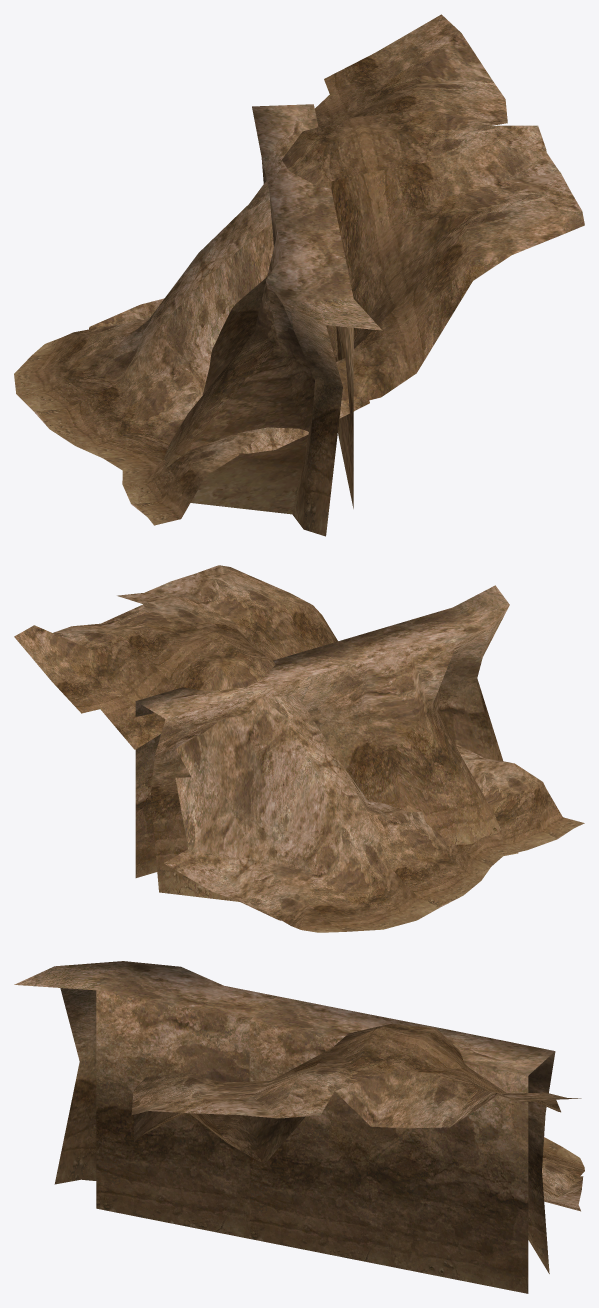
Rendered from dcfx_qm_03.FBX.
3 views of the same model, one above another, from view 1: azimuth 30°, elevation 25°; view 2: azimuth 150°, elevation 25°; view 3: azimuth 270°, elevation 25° (orthographic). The views are drawn at different scales.
Visible parts, largest first — view 1: dcfx_qm_03; view 2: dcfx_qm_03; view 3: dcfx_qm_03.
Boxes of the visible parts, x1,y1,x2,y2 form: dcfx_qm_03: (14,14,584,536); dcfx_qm_03: (14,565,584,932); dcfx_qm_03: (14,961,584,1293).
Size of the model in its own units: 1785 by 914 by 1751.
